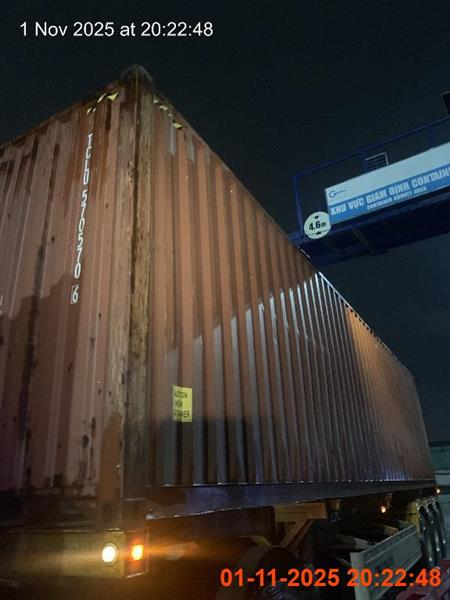dent: (0, 65, 448, 599), (0, 66, 448, 599)
